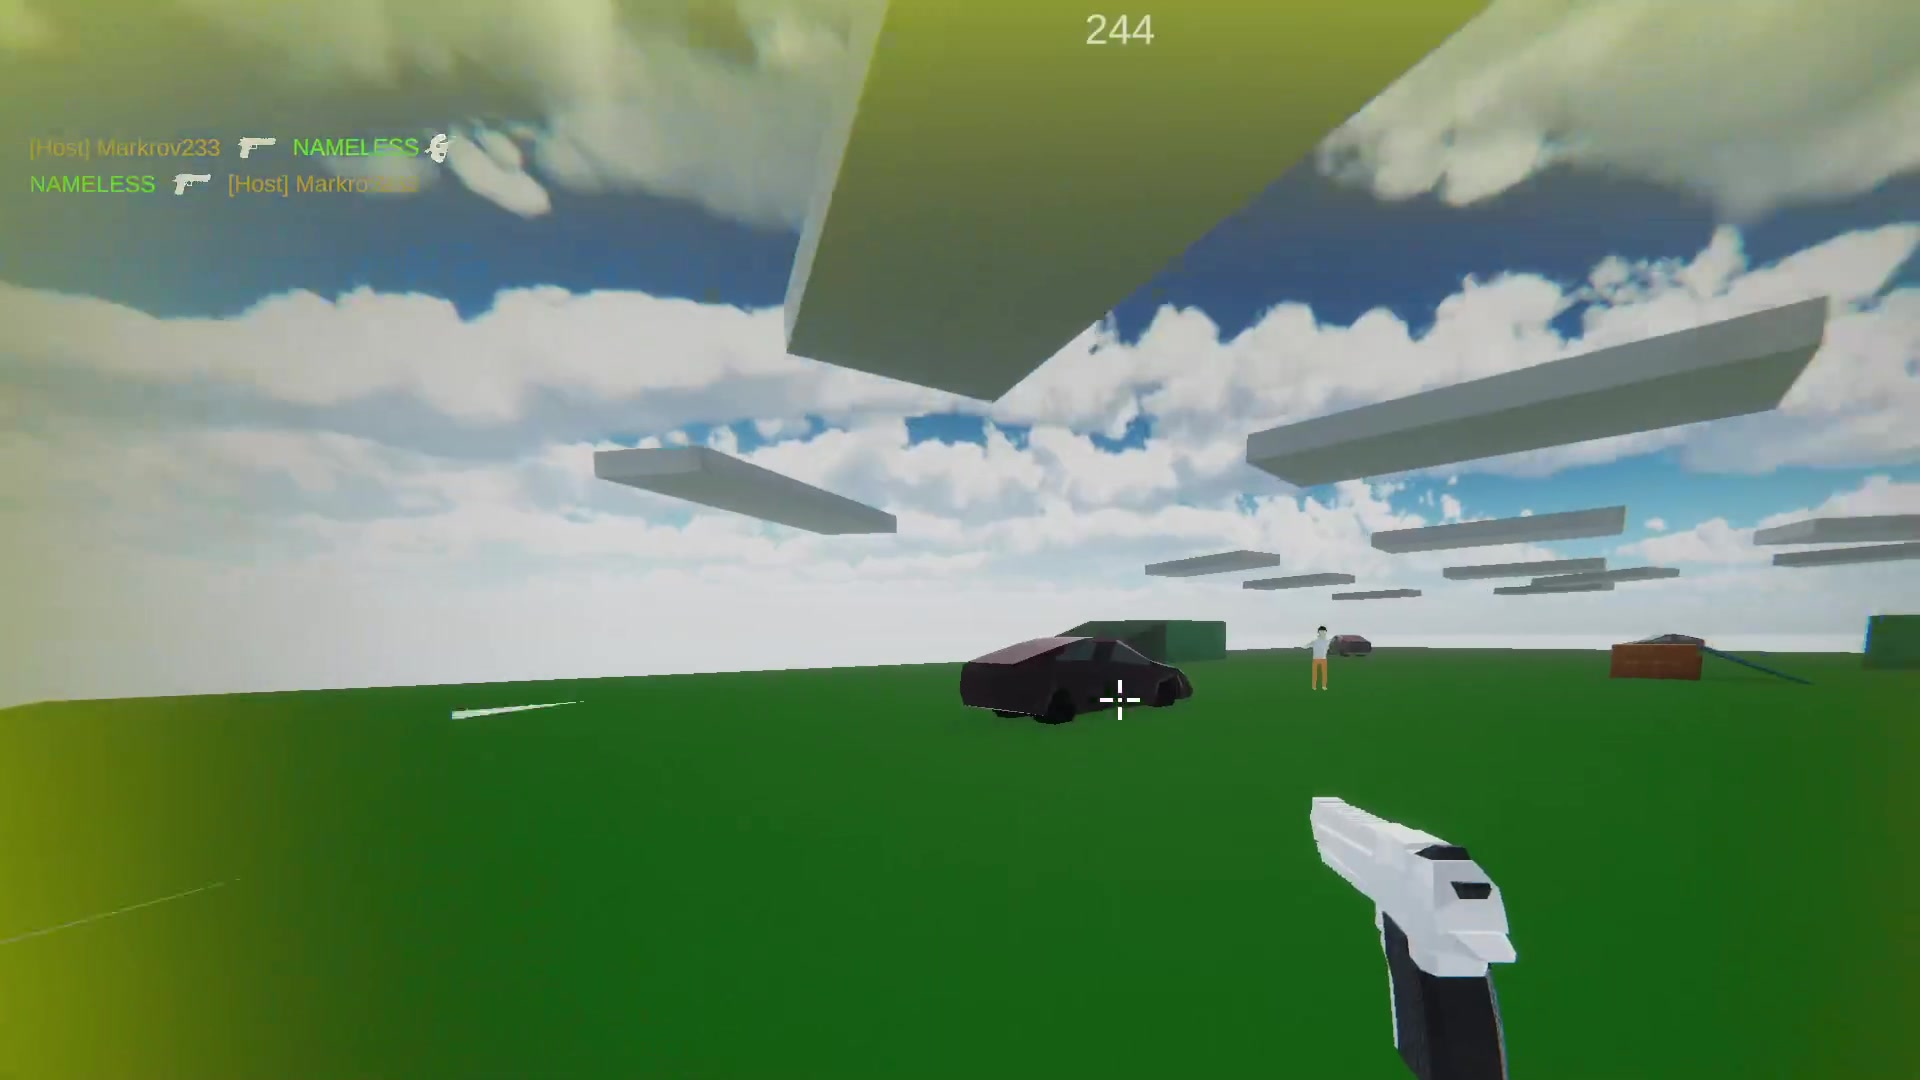human: (1307, 622, 1336, 696)
